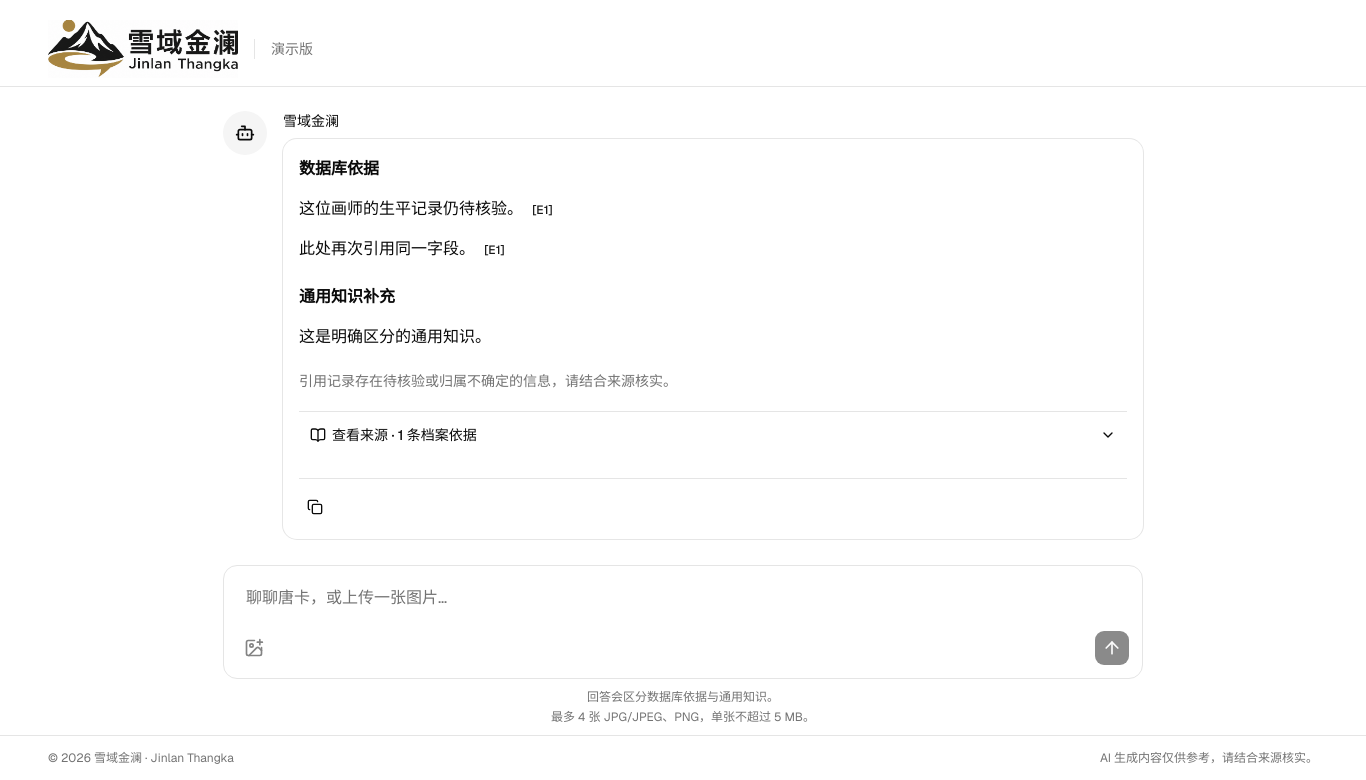
does not fabricate a return target on direct expansion or a source area on plain answers
This screenshot has width=1366, height=780.
Step 1. Click the button "查看来源 · 1 条档案依据" → (360,435), box left=299, top=424, right=1127, bottom=446
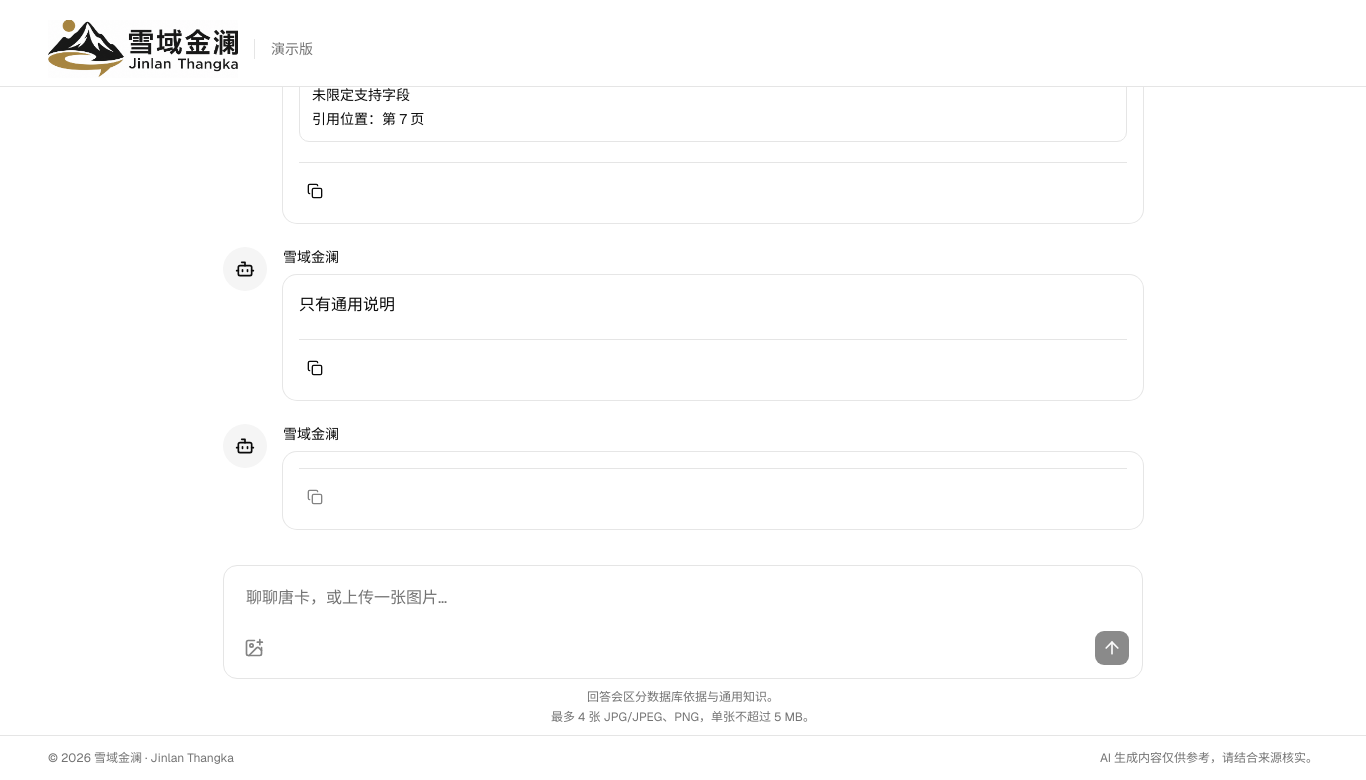
Expected: the button "查看来源" is gone
Expected: the 3rd button named "复制回答" is disabled, left=299, top=481, right=331, bottom=513
